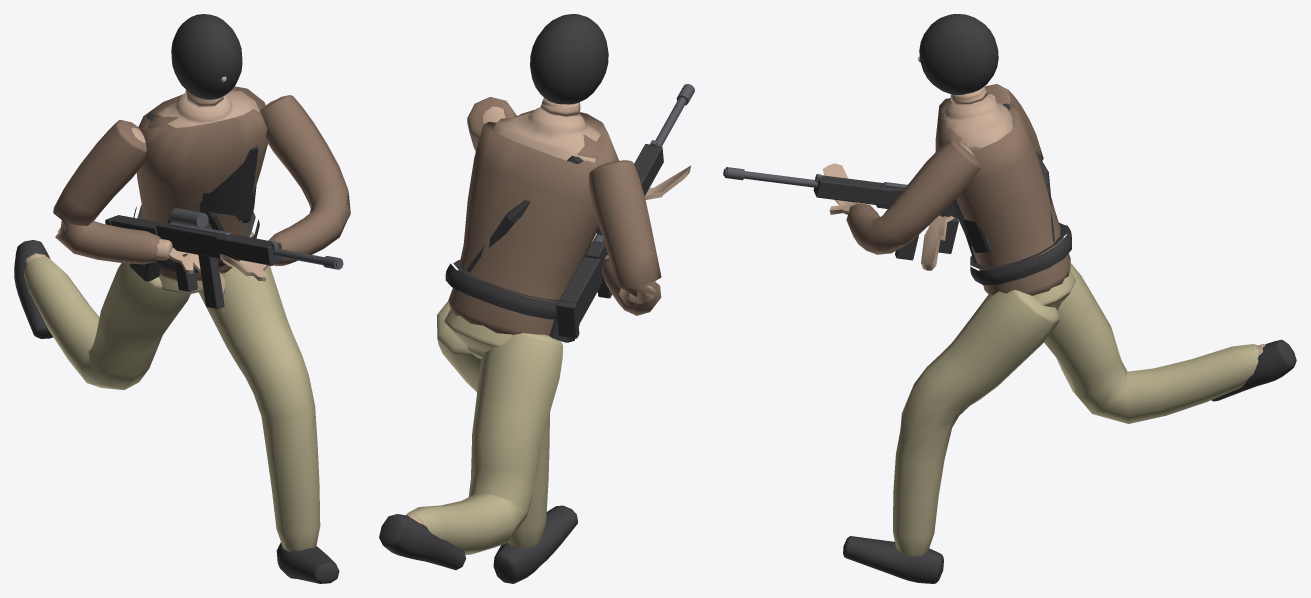
File: tactical-shooter-hill-town-veteran-running-1660b930__27593.glb
3 renders of one model, left to right at view 1: azimuth 30°, elevation 25°; view 2: azimuth 150°, elevation 25°; view 3: azimuth 270°, elevation 25°, orthographic. The views are drawn at different scales.
Visible parts, largest first — view 1: veteran-running; view 2: veteran-running; view 3: veteran-running.
Boxes of the visible parts, bbox=[...] form: veteran-running: bbox=[14, 14, 350, 583]; veteran-running: bbox=[379, 14, 694, 583]; veteran-running: bbox=[723, 14, 1296, 583].
Bounding box in the file's own units: 0.6926 × 1.65 × 1.6.
